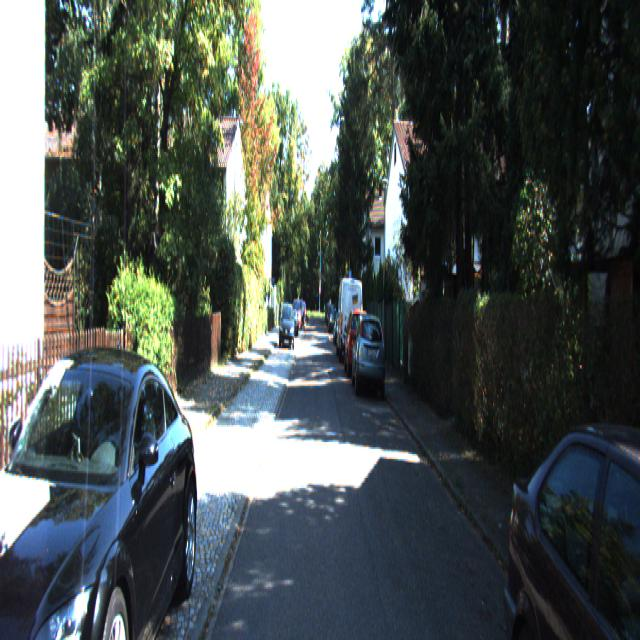Car: (0, 341, 200, 639), (492, 391, 640, 638), (350, 310, 384, 400), (336, 276, 364, 367), (344, 306, 374, 382), (279, 300, 293, 350)
